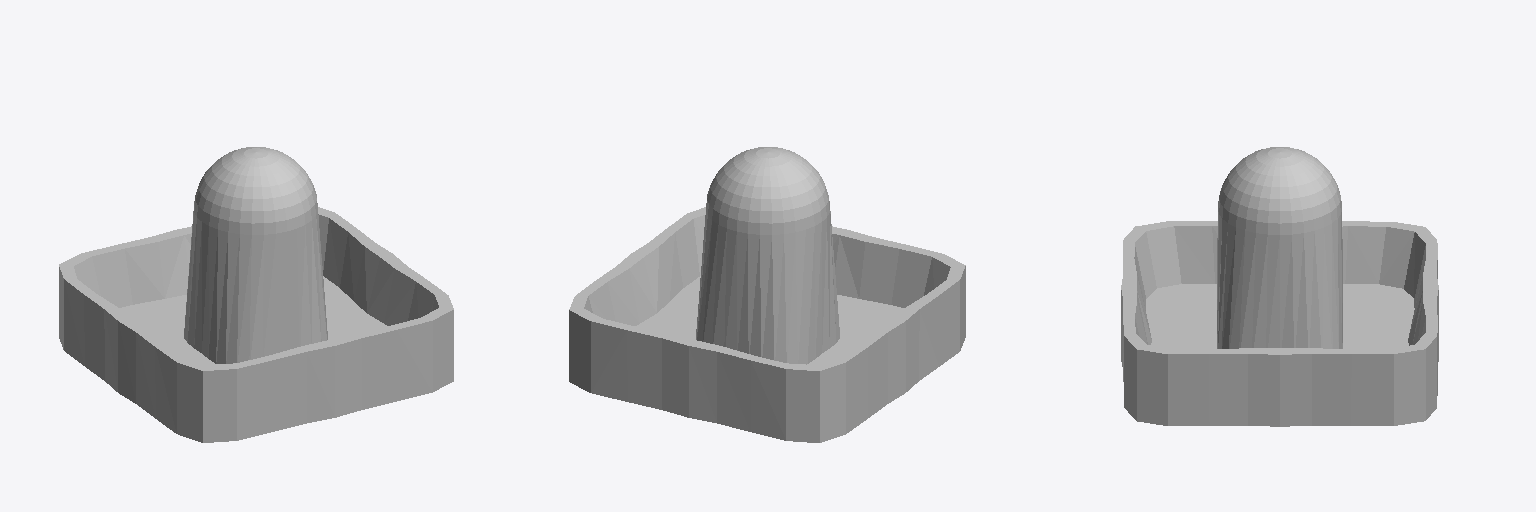
The model's file is Paddle_Square.obj.
3 views of the same model, side by side, from view 1: azimuth 30°, elevation 25°; view 2: azimuth 150°, elevation 25°; view 3: azimuth 270°, elevation 25° (orthographic).
Visible parts, largest first — view 1: Mesh_Cylinder.001; view 2: Mesh_Cylinder.001; view 3: Mesh_Cylinder.001.
Part boxes in pixels (bbox=[...]): Mesh_Cylinder.001: bbox=[59, 147, 453, 442]; Mesh_Cylinder.001: bbox=[569, 147, 965, 442]; Mesh_Cylinder.001: bbox=[1121, 147, 1438, 426].
Size of the model in its own units: 2 by 1.44 by 2.